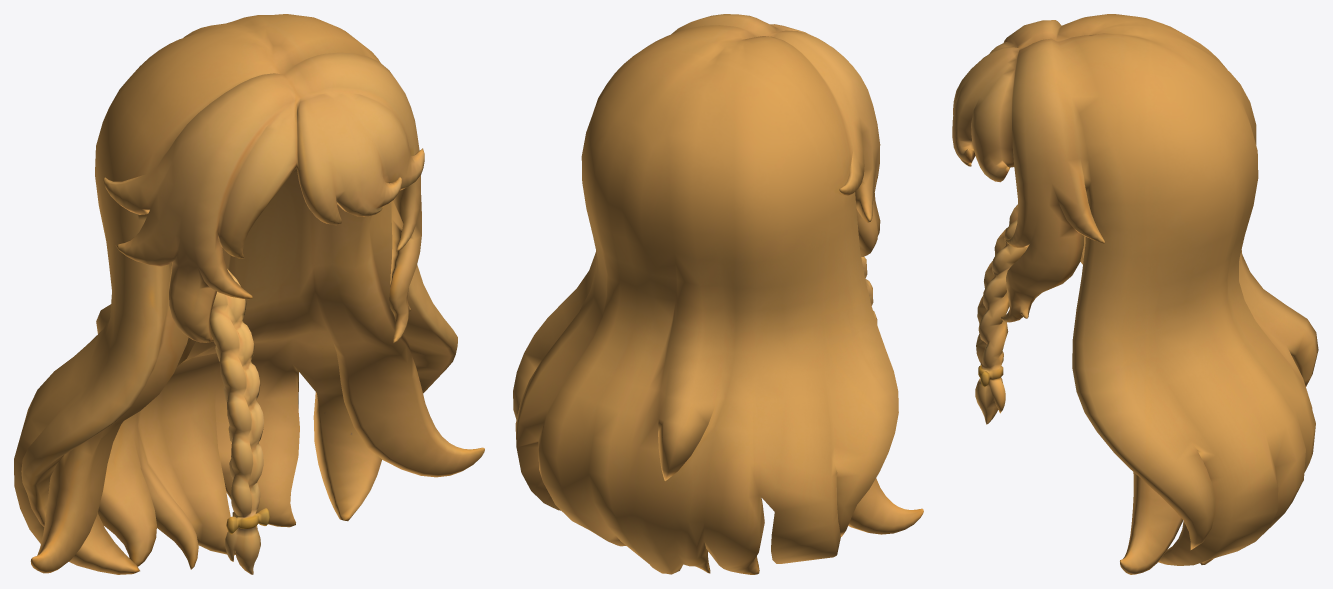
Rendered from erpin-hair.fbx.
3 views of the same model, side by side, from view 1: azimuth 30°, elevation 25°; view 2: azimuth 150°, elevation 25°; view 3: azimuth 270°, elevation 25° (orthographic). The views are drawn at different scales.
Parts seen in each view (by area): view 1: tripo_node_3bd7b382-d3f4-42a9-a3f9-1b0a4c3e3a80; view 2: tripo_node_3bd7b382-d3f4-42a9-a3f9-1b0a4c3e3a80; view 3: tripo_node_3bd7b382-d3f4-42a9-a3f9-1b0a4c3e3a80.
Part boxes in pixels (x1,y1,x2,y2): tripo_node_3bd7b382-d3f4-42a9-a3f9-1b0a4c3e3a80: [14, 14, 484, 574]; tripo_node_3bd7b382-d3f4-42a9-a3f9-1b0a4c3e3a80: [513, 14, 923, 574]; tripo_node_3bd7b382-d3f4-42a9-a3f9-1b0a4c3e3a80: [952, 14, 1318, 574].
Bounding box in the file's own units: 0.8345 × 0.9995 × 0.644.
1 material, 1 textured.
